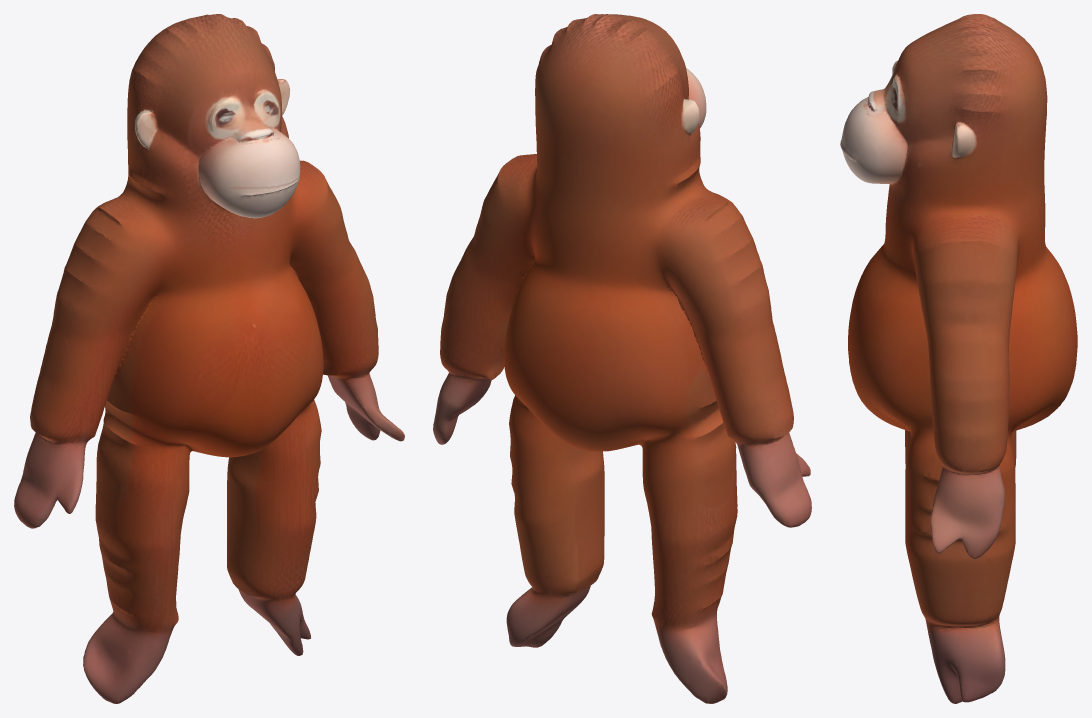
Rendered from IKEA_Djungelskog.glb.
3 views of the same model, side by side, from view 1: azimuth 30°, elevation 25°; view 2: azimuth 150°, elevation 25°; view 3: azimuth 270°, elevation 25° (orthographic). The views are drawn at different scales.
Visible parts, largest first — view 1: model; view 2: model; view 3: model.
Part boxes in pixels (box(x1,y1,x2,y2)): model: box(14, 14, 404, 703); model: box(433, 14, 811, 703); model: box(840, 14, 1077, 703).
Bounding box in the file's own units: 1.12 × 1.9 × 0.6355.
1 material, 1 textured.
